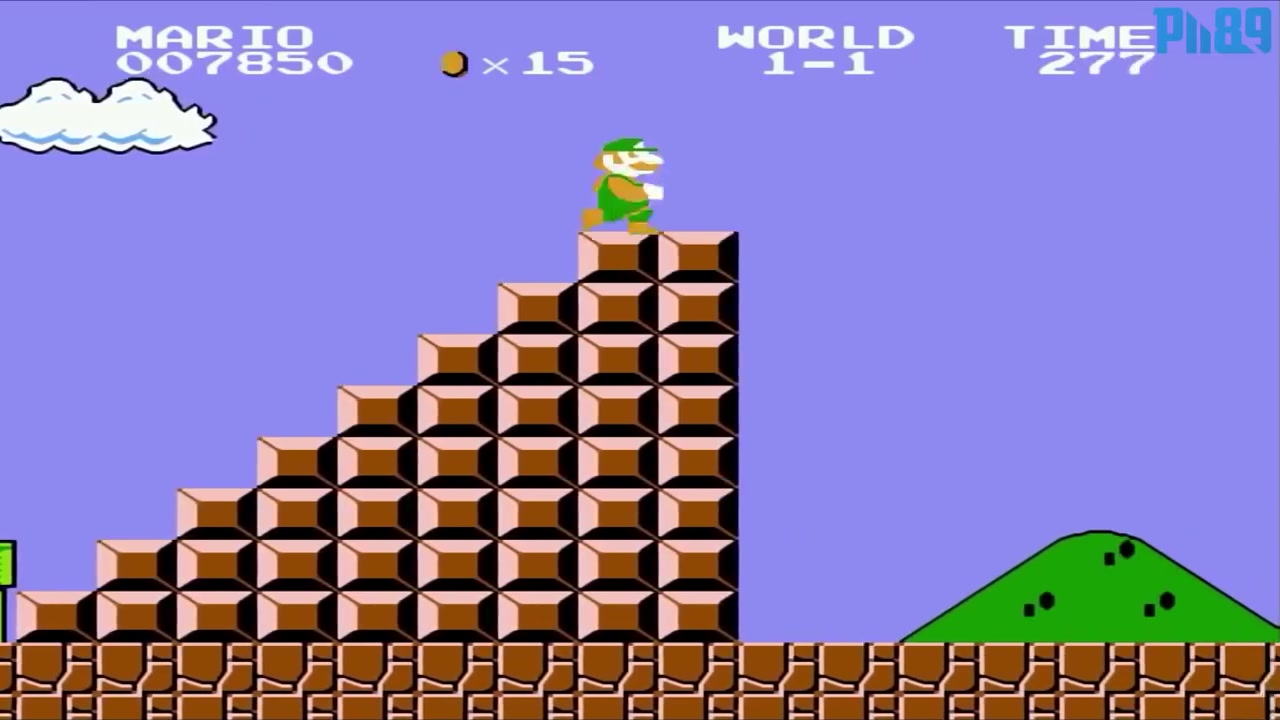mario: (582, 127, 684, 242)
